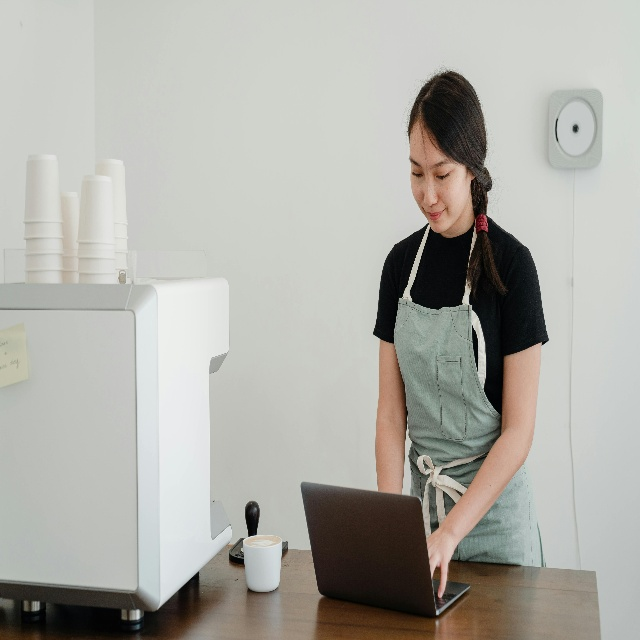Sin_guantes: (426, 529, 459, 595)
